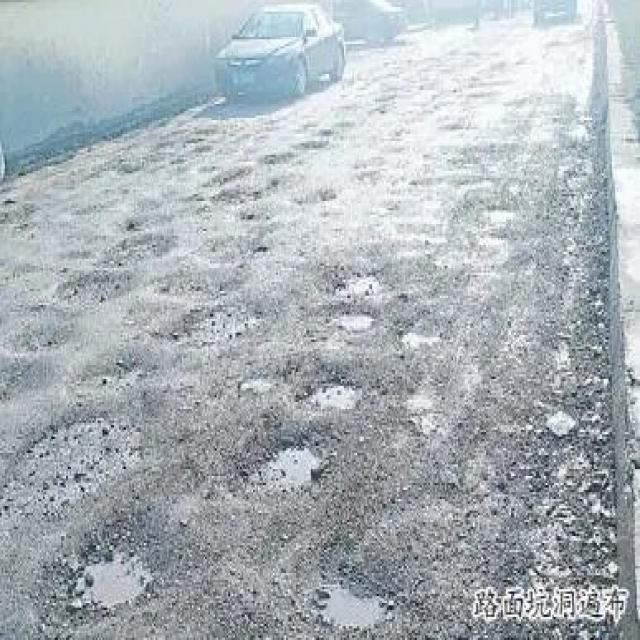Pothole: (25, 425, 142, 506), (303, 571, 390, 633), (63, 548, 147, 608), (261, 442, 326, 488), (190, 305, 273, 340), (302, 374, 366, 414), (70, 275, 138, 310), (212, 159, 263, 201), (17, 335, 76, 363), (112, 233, 168, 259), (339, 266, 382, 293), (331, 307, 374, 333), (294, 185, 334, 210), (261, 150, 306, 169), (441, 120, 478, 139), (298, 136, 330, 148)
